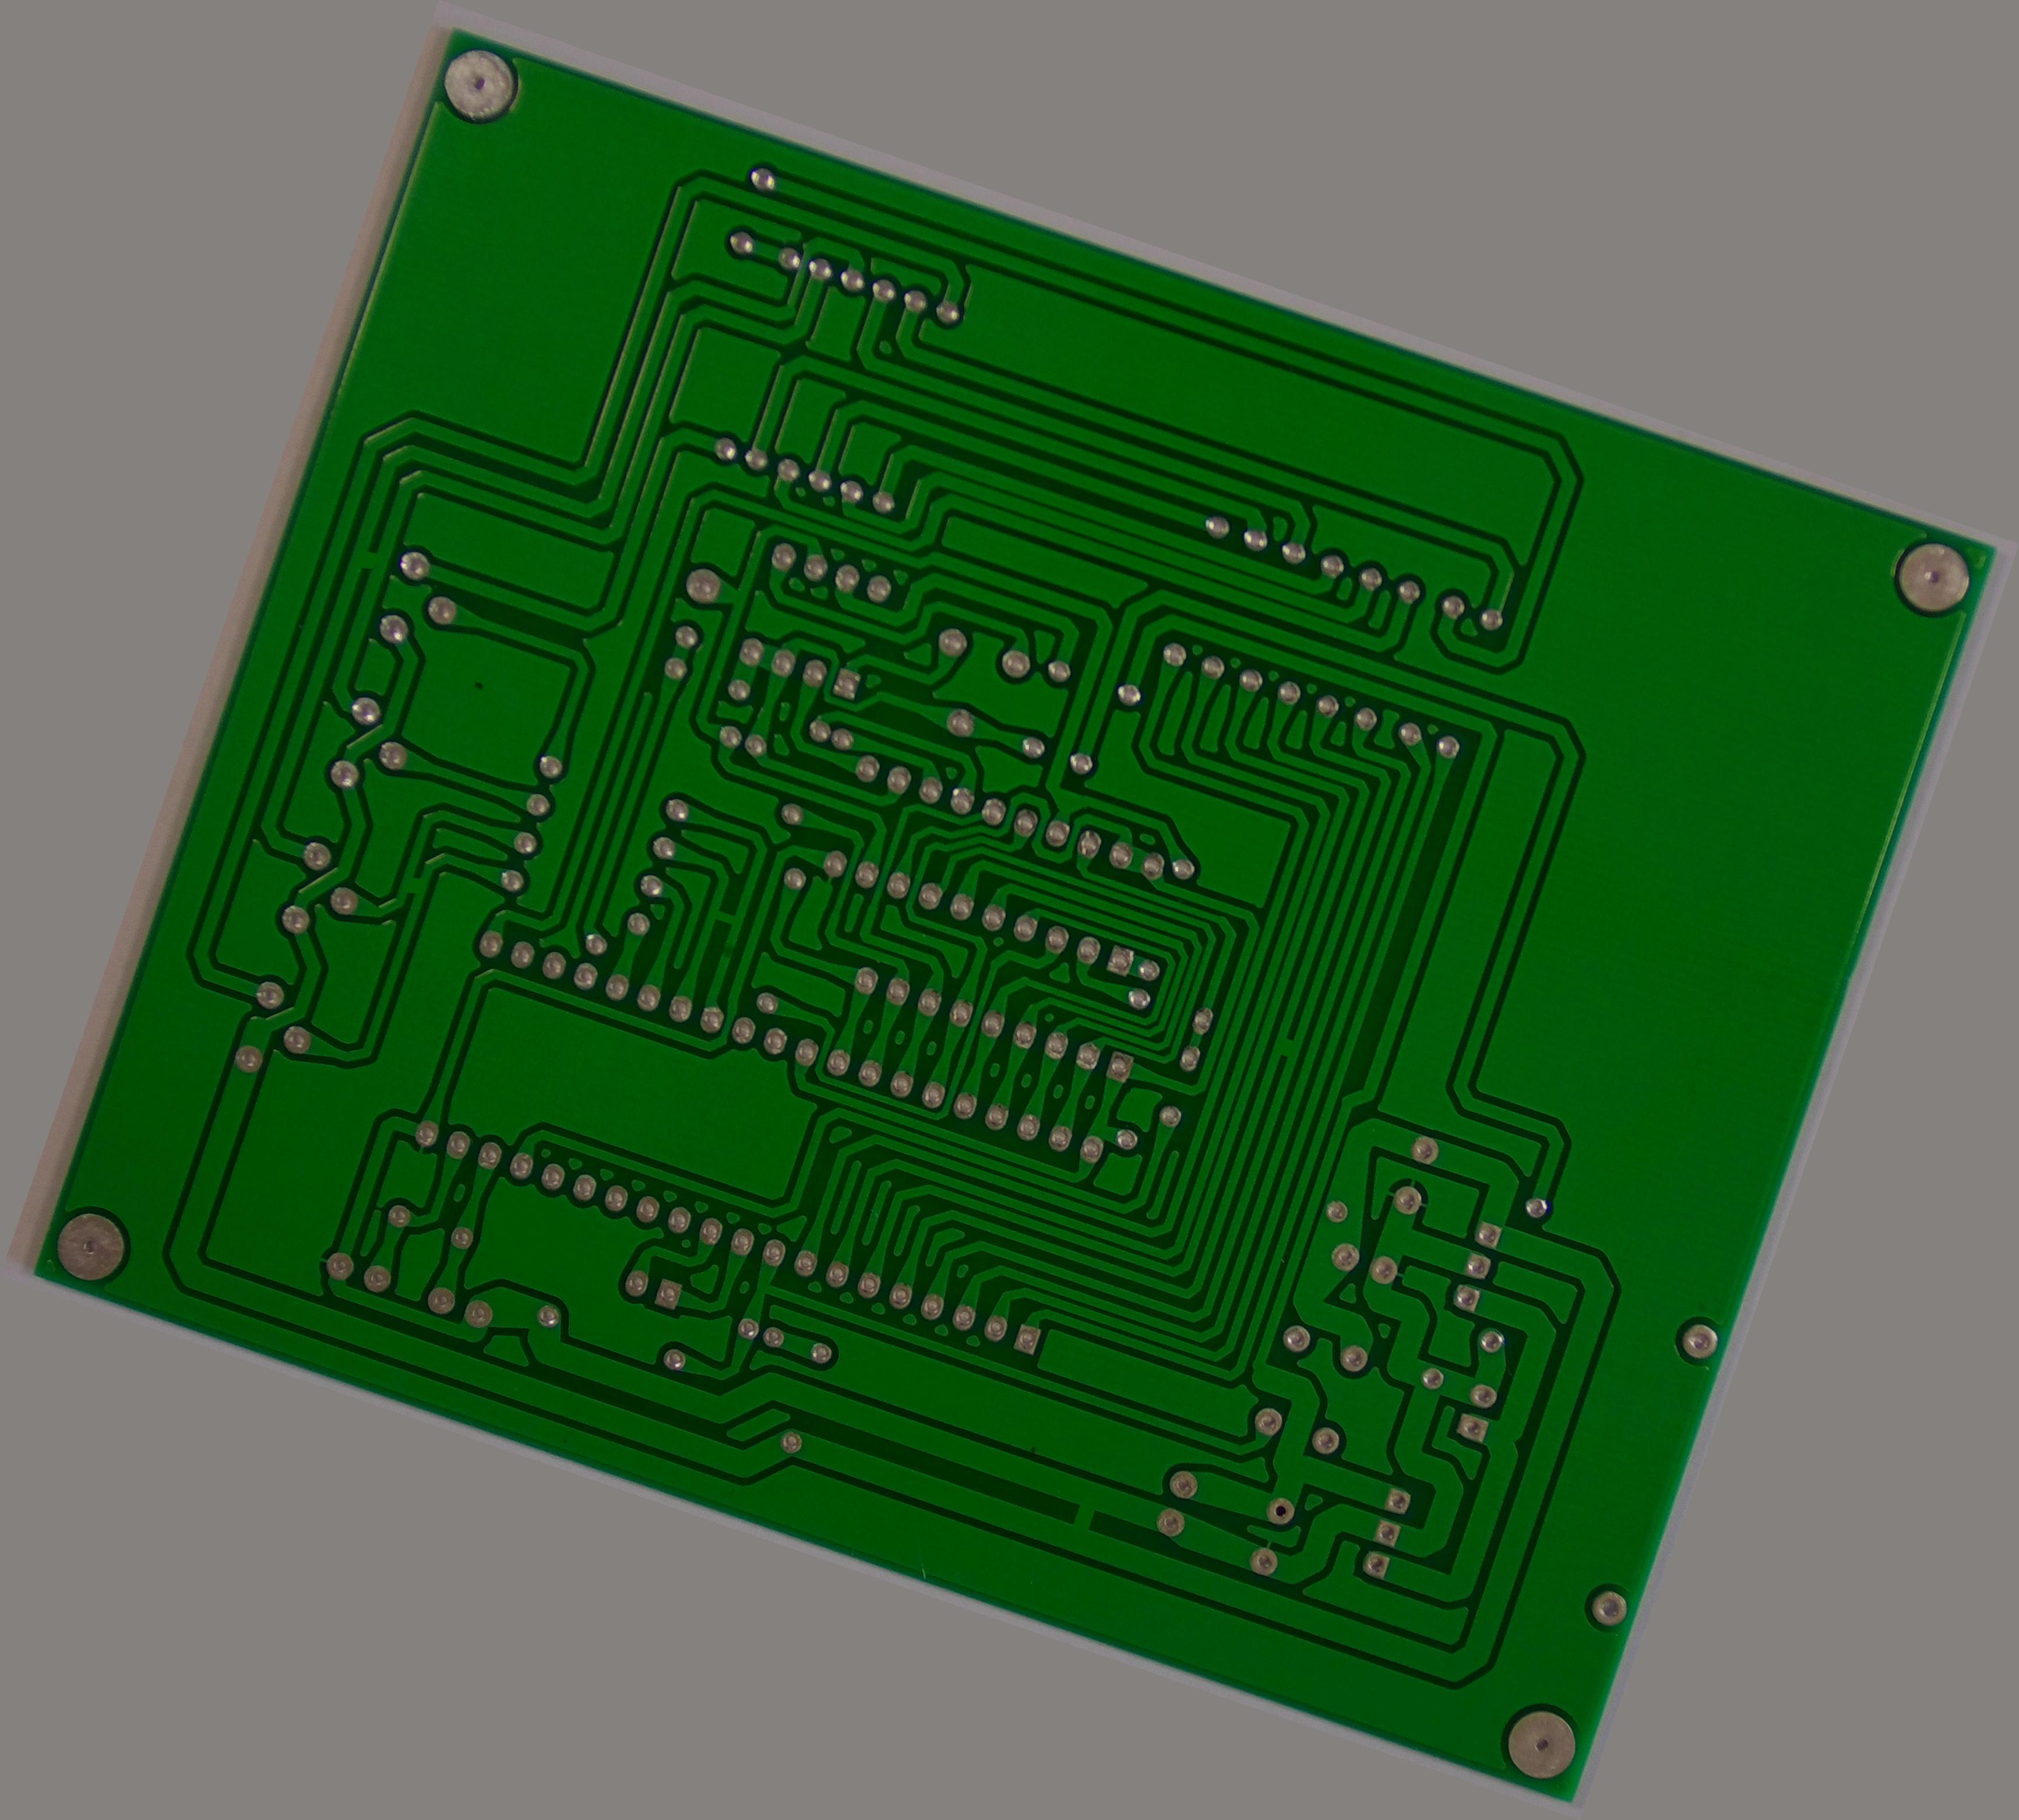short: (1039, 1481, 1120, 1551), (339, 529, 399, 589), (697, 896, 751, 943), (393, 861, 439, 908), (1262, 1028, 1306, 1068)
